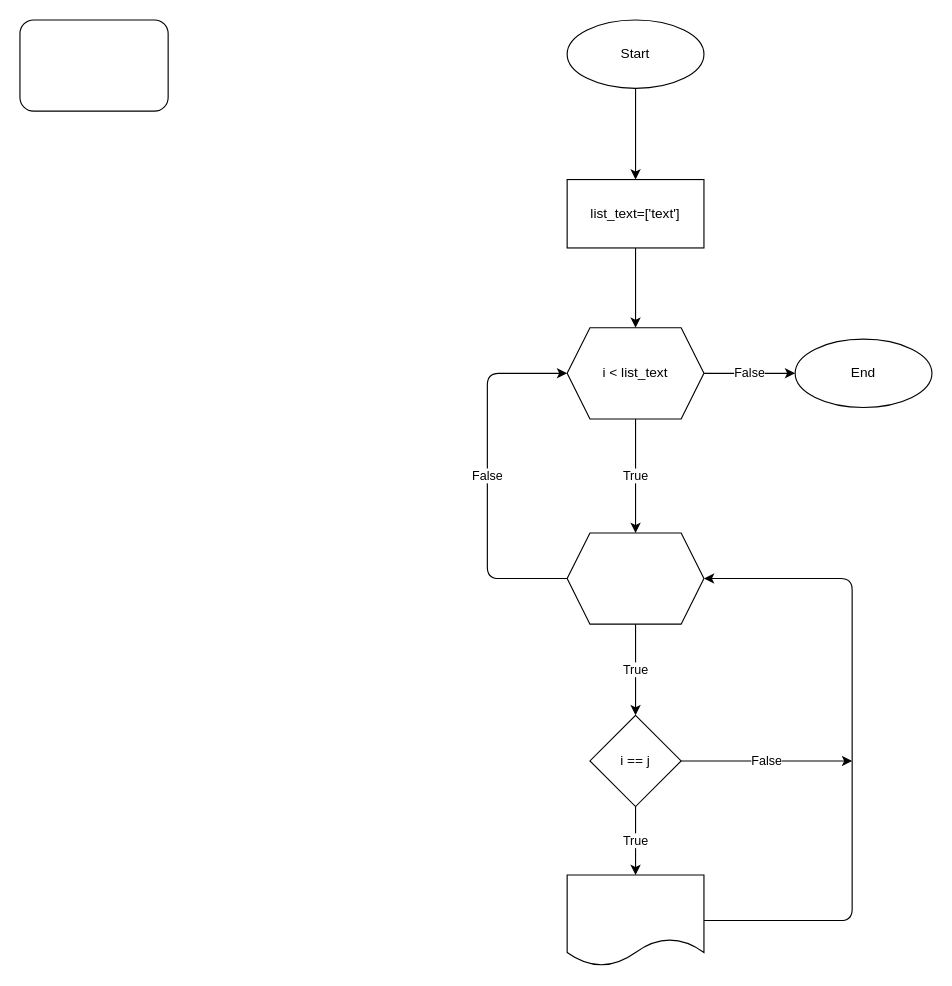
Some shapes in this 952 by 986 pixel diagram are drawn without their labels. Each missing label, with the centre of its shape:
j < list_text: (x=635, y=578)
print i == j: (x=635, y=920)
Определить, позицию второго вхождения строки в спике дибо сообщить что её нет.: (x=93, y=65)
